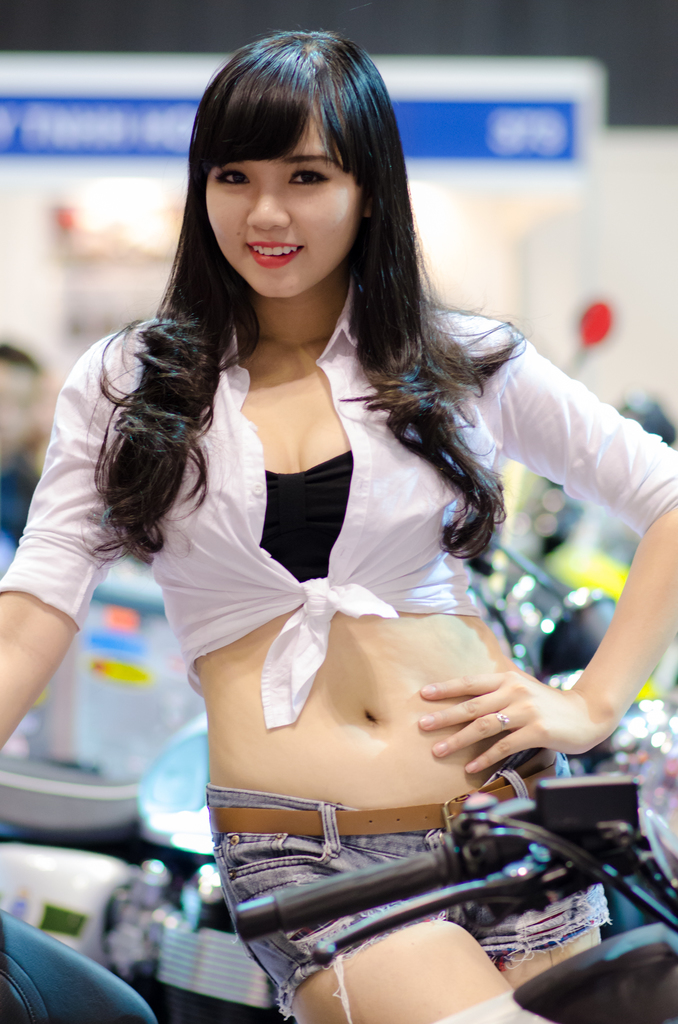Human_hand: (419, 668, 610, 781)
